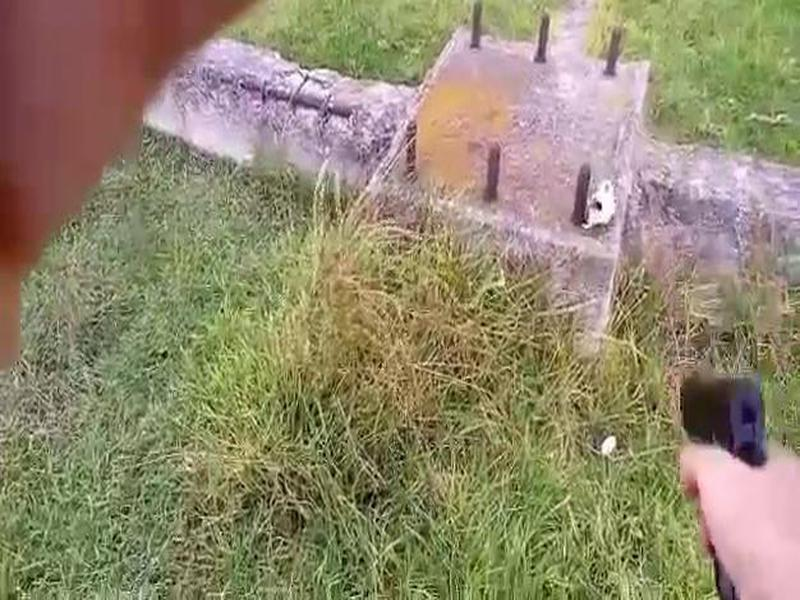Pistola: (657, 347, 792, 600)
